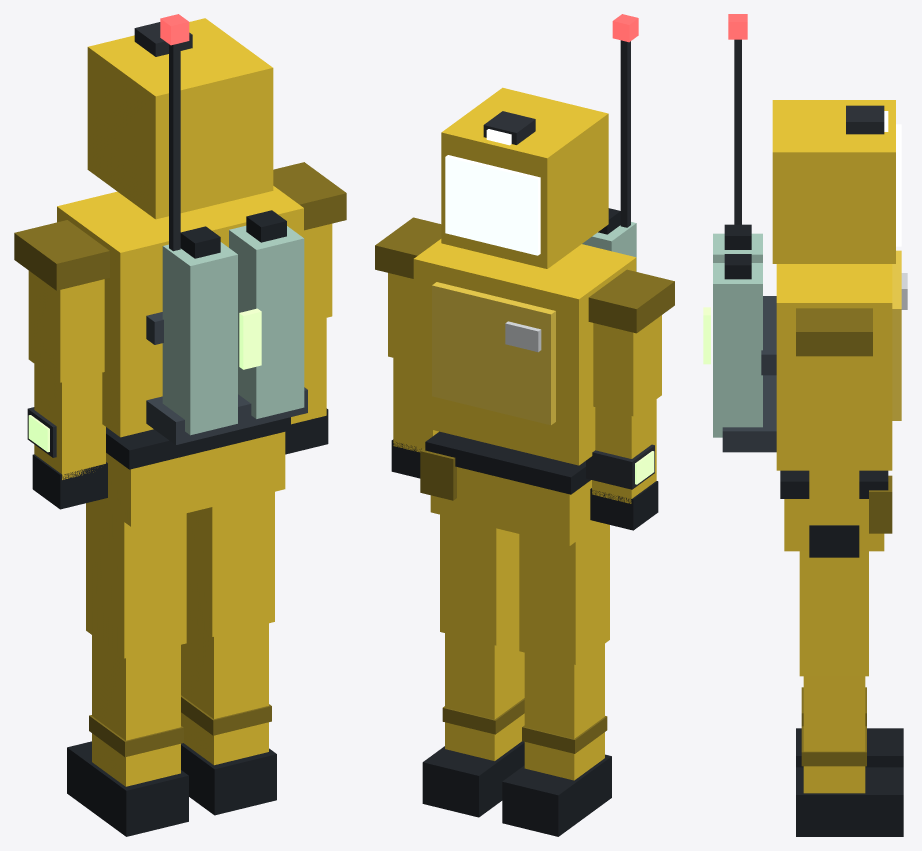
Rendered from bio_tech_hazmat_yellow.glb.
The picture shows the model from 3 angles, left to right: view 1: azimuth 30°, elevation 25°; view 2: azimuth 150°, elevation 25°; view 3: azimuth 270°, elevation 25°; orthographic projection. The views are drawn at different scales.
Visible parts, largest first — view 1: Merged6, Merged, Merged7, Merged8, Merged9, _MeshInstance3D_2375, Merged3, _MeshInstance3D_2386, Merged2, Merged5, Merged4; view 2: Merged6, Merged, Merged7, Merged8, Merged9, _MeshInstance3D_2375, Merged3, _MeshInstance3D_2386, Merged2, Merged5, Merged4; view 3: Merged6, Merged, Merged8, Merged5, _MeshInstance3D_2386, Merged4, Merged9, Merged7.
Boxes of the visible parts, x1,y1,x2,y2 form: Merged6: (57, 14, 307, 444); Merged: (87, 18, 273, 219); Merged7: (67, 635, 188, 836); Merged8: (181, 618, 276, 815); Merged9: (96, 417, 290, 526); _MeshInstance3D_2375: (86, 501, 186, 658); Merged3: (14, 220, 109, 382); _MeshInstance3D_2386: (186, 492, 274, 636); Merged2: (27, 364, 107, 509); Merged5: (273, 162, 346, 322); Merged4: (285, 318, 328, 454); Merged6: (413, 14, 638, 465); Merged: (441, 87, 608, 268); Merged7: (502, 644, 611, 836); Merged8: (422, 629, 524, 817); Merged9: (420, 431, 600, 545); _MeshInstance3D_2375: (519, 523, 609, 664); Merged3: (588, 269, 674, 416); _MeshInstance3D_2386: (440, 514, 519, 645); Merged2: (586, 399, 658, 530); Merged5: (375, 217, 441, 362); Merged4: (391, 358, 438, 478); Merged6: (703, 14, 907, 470); Merged: (772, 100, 901, 263); Merged8: (796, 676, 903, 836); Merged5: (796, 308, 872, 441); _MeshInstance3D_2386: (799, 551, 868, 676); Merged4: (809, 441, 859, 557); Merged9: (780, 470, 892, 551); Merged7: (796, 687, 903, 767).
Size of the model in its own units: 0.79 by 2.18 by 0.53.
